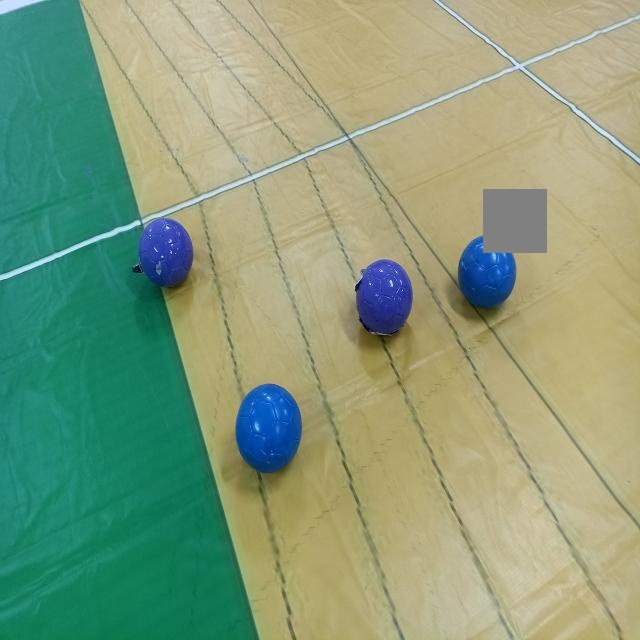blue_ball: (232, 379, 304, 485), (453, 227, 521, 322)
purple_ball: (352, 252, 418, 346), (135, 211, 197, 299)
